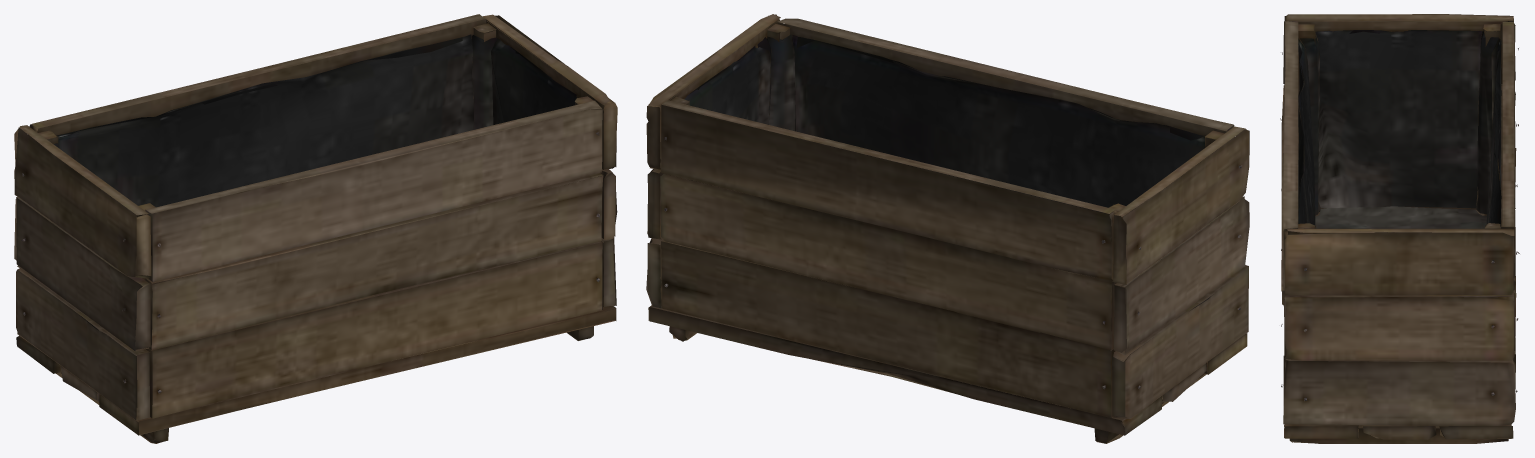
Rendered from planter.glb.
The picture shows the model from 3 angles, left to right: view 1: azimuth 30°, elevation 25°; view 2: azimuth 150°, elevation 25°; view 3: azimuth 270°, elevation 25°; orthographic projection. The views are drawn at different scales.
Parts seen in each view (by area): view 1: planter; view 2: planter; view 3: planter.
Part boxes in pixels (<box>): planter: <box>14,14,617,443</box>; planter: <box>646,14,1249,443</box>; planter: <box>1280,14,1519,443</box>.
Bounding box in the file's own units: 0.9217 × 0.4264 × 0.4227.
1 material, 1 textured.
